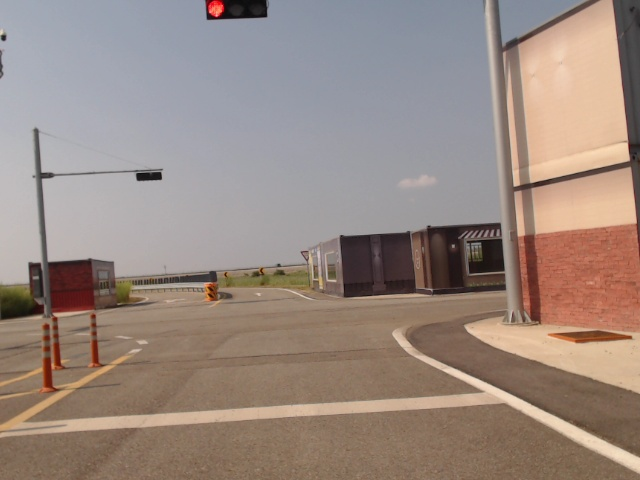red_3: (206, 0, 266, 19)
